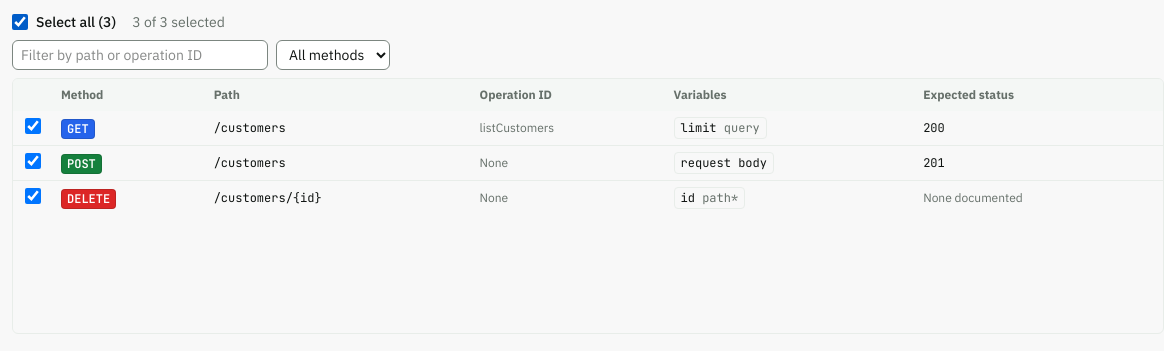
Test case: OperationSelection filters (specs/047 R12, constitution XXXII) › says when no operation matches
In the search field named "Filter operations": (140, 55) [12, 40, 268, 70], type "zzz"
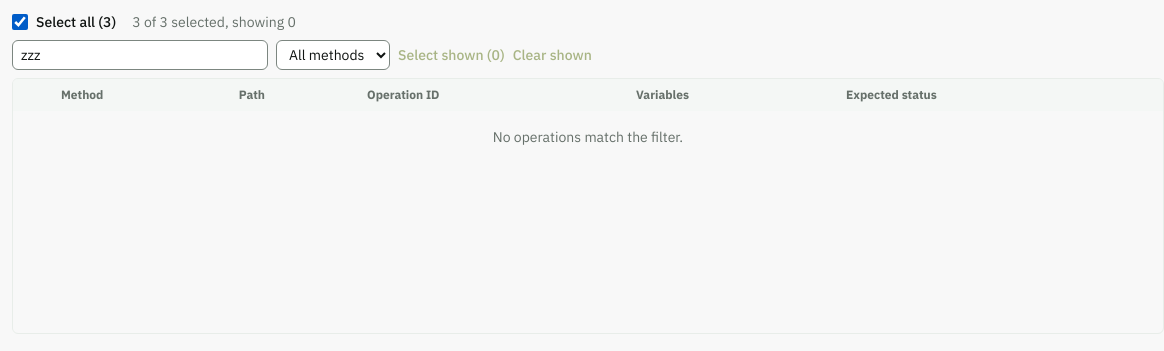
Expected: the text "No operations match the filter." is shown, [13, 111, 1163, 163]
Expected: the button "Select shown (0)" is disabled, [398, 45, 505, 65]
